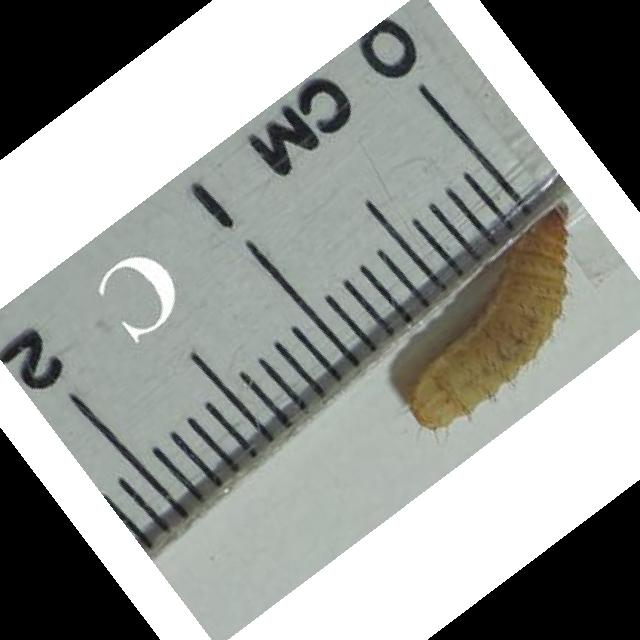Maggot: (404, 202, 578, 435)
